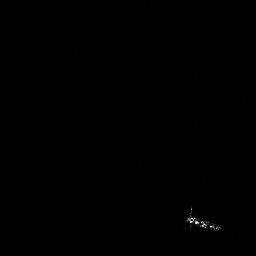ship: (181, 206, 223, 234)
